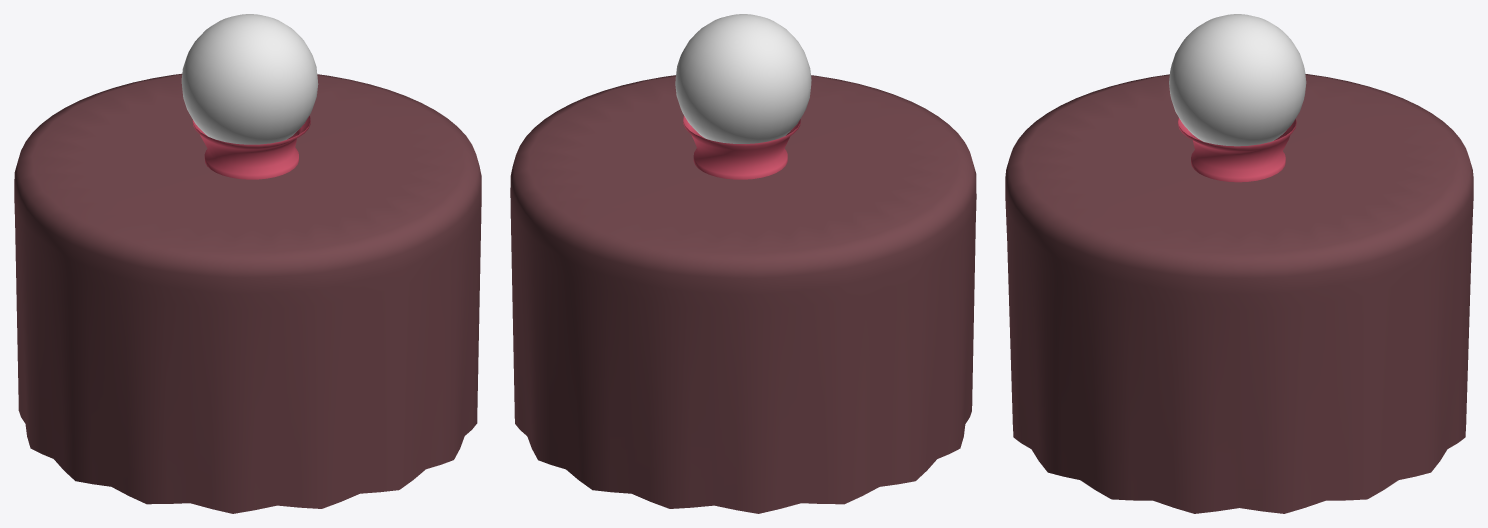
Rendered from RoundTable.fbx.
3 renders of one model, left to right at view 1: azimuth 30°, elevation 25°; view 2: azimuth 150°, elevation 25°; view 3: azimuth 270°, elevation 25°, orthographic.
Visible parts, largest first — view 1: Table, CrystalBall; view 2: Table, CrystalBall; view 3: Table, CrystalBall.
Part boxes in pixels (x1,y1,x2,y2): Table: [14, 73, 481, 513]; CrystalBall: [181, 14, 318, 179]; Table: [510, 75, 976, 513]; CrystalBall: [675, 14, 811, 179]; Table: [1005, 74, 1473, 513]; CrystalBall: [1169, 14, 1306, 182].
Bounding box in the file's own units: 122 × 117 × 122.
